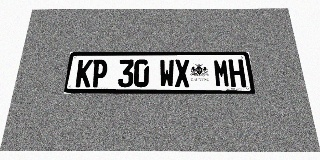0: (133, 59, 149, 87)
3: (118, 59, 134, 87)
H: (228, 59, 246, 87)
K: (75, 59, 93, 87)
M: (213, 59, 230, 87)
P: (90, 59, 108, 87)
W: (159, 59, 174, 87)
X: (174, 59, 190, 87)
